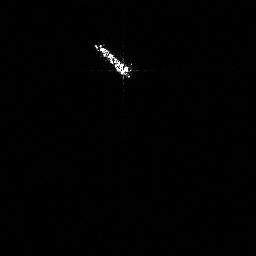ship: (89, 41, 139, 81)
